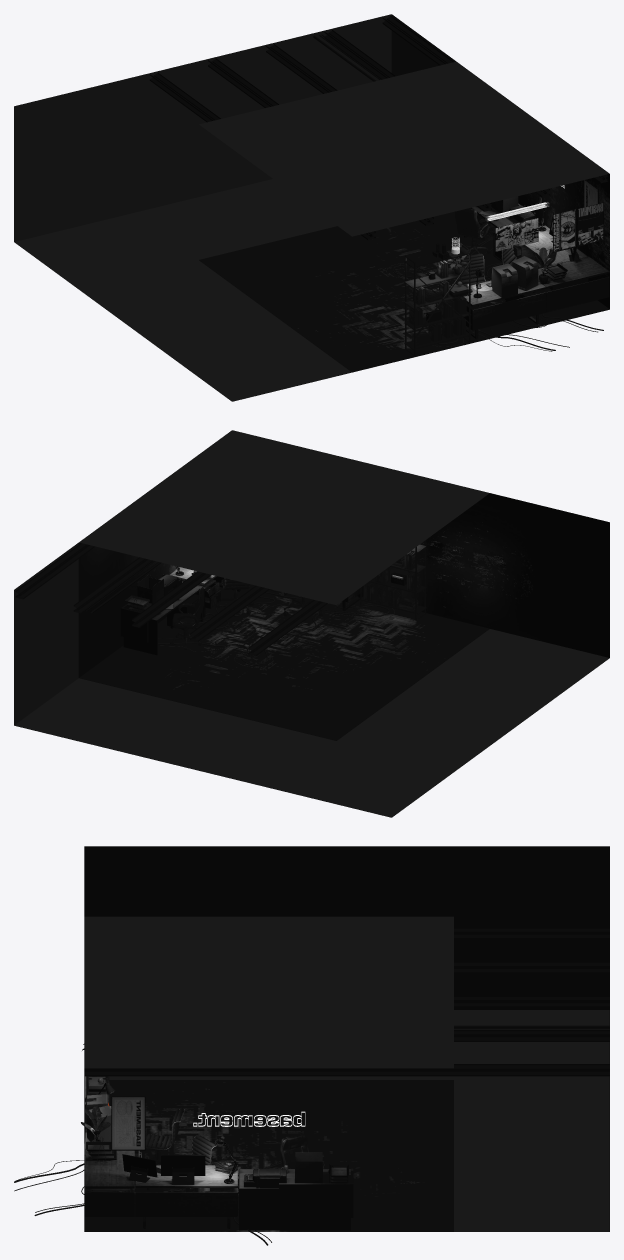
Rendered from office3.glb.
3 views of the same model, one above another, from view 1: azimuth 30°, elevation 25°; view 2: azimuth 150°, elevation 25°; view 3: azimuth 270°, elevation 25° (orthographic). The views are drawn at different scales.
Visible parts, largest first — view 1: ARQ_3_, ARQ_3_Roof, ARQ_3_floor, beams, 21_picture, ARQ_02, 01_Desk_02_01, 04_Shelf, 03_cornerback, Book_92, 08_PC_Mac_, BezierCurve (+5 smaller); view 2: ARQ_3_, ARQ_3_Roof, ARQ_3_floor, ARQ_02, beams, 00_DESK_01, Book_92, BezierCurve, 04_Shelf, 07_chair_02_01, 02_Desk_02_02, 24_ML_BOX.001; view 3: ARQ_3_Roof, ARQ_02, ARQ_3_floor, ARQ_3_, beams, 00_DESK_01, 02_Desk_02_02, 03_cornerback, 21_picture, 09_PC, 24_ML_BOX.001, BezierCurve (+6 smaller).
Part boxes in pixels (x1=…): ARQ_3_: x1=14, y1=14, x2=455, y2=401; ARQ_3_Roof: x1=199, y1=61, x2=609, y2=236; ARQ_3_floor: x1=199, y1=211, x2=609, y2=372; beams: x1=149, y1=15, x2=608, y2=239; 21_picture: x1=495, y1=180, x2=603, y2=252; ARQ_02: x1=199, y1=174, x2=609, y2=399; 01_Desk_02_01: x1=452, y1=280, x2=546, y2=339; 04_Shelf: x1=404, y1=242, x2=471, y2=356; 03_cornerback: x1=538, y1=256, x2=609, y2=312; Book_92: x1=409, y1=260, x2=466, y2=345; 08_PC_Mac_: x1=486, y1=256, x2=538, y2=297; BezierCurve: x1=386, y1=239, x2=603, y2=351; ARQ_3_: x1=14, y1=493, x2=609, y2=817; ARQ_3_Roof: x1=79, y1=430, x2=489, y2=605; ARQ_3_floor: x1=79, y1=581, x2=489, y2=740; ARQ_02: x1=16, y1=493, x2=609, y2=815; beams: x1=15, y1=543, x2=327, y2=655; 00_DESK_01: x1=120, y1=581, x2=203, y2=655; Book_92: x1=363, y1=551, x2=420, y2=611; BezierCurve: x1=158, y1=589, x2=394, y2=667; 04_Shelf: x1=359, y1=540, x2=426, y2=620; 07_chair_02_01: x1=170, y1=588, x2=204, y2=649; 02_Desk_02_02: x1=169, y1=567, x2=240, y2=617; 24_ML_BOX.001: x1=137, y1=575, x2=163, y2=604; ARQ_3_Roof: x1=84, y1=916, x2=453, y2=1068; ARQ_02: x1=84, y1=846, x2=609, y2=1231; ARQ_3_floor: x1=84, y1=1080, x2=453, y2=1231; ARQ_3_: x1=84, y1=1010, x2=609, y2=1231; beams: x1=84, y1=927, x2=609, y2=1076; 00_DESK_01: x1=239, y1=1168, x2=353, y2=1230; 02_Desk_02_02: x1=135, y1=1165, x2=237, y2=1228; 03_cornerback: x1=84, y1=1150, x2=134, y2=1216; 21_picture: x1=84, y1=1076, x2=145, y2=1150; 09_PC: x1=122, y1=1154, x2=205, y2=1184; 24_ML_BOX.001: x1=295, y1=1152, x2=322, y2=1183; BezierCurve: x1=14, y1=1152, x2=324, y2=1245.
Bounding box in the file's own units: 20.7 × 6.69 × 22.09.
Materials: 44 (29 with a texture image).
